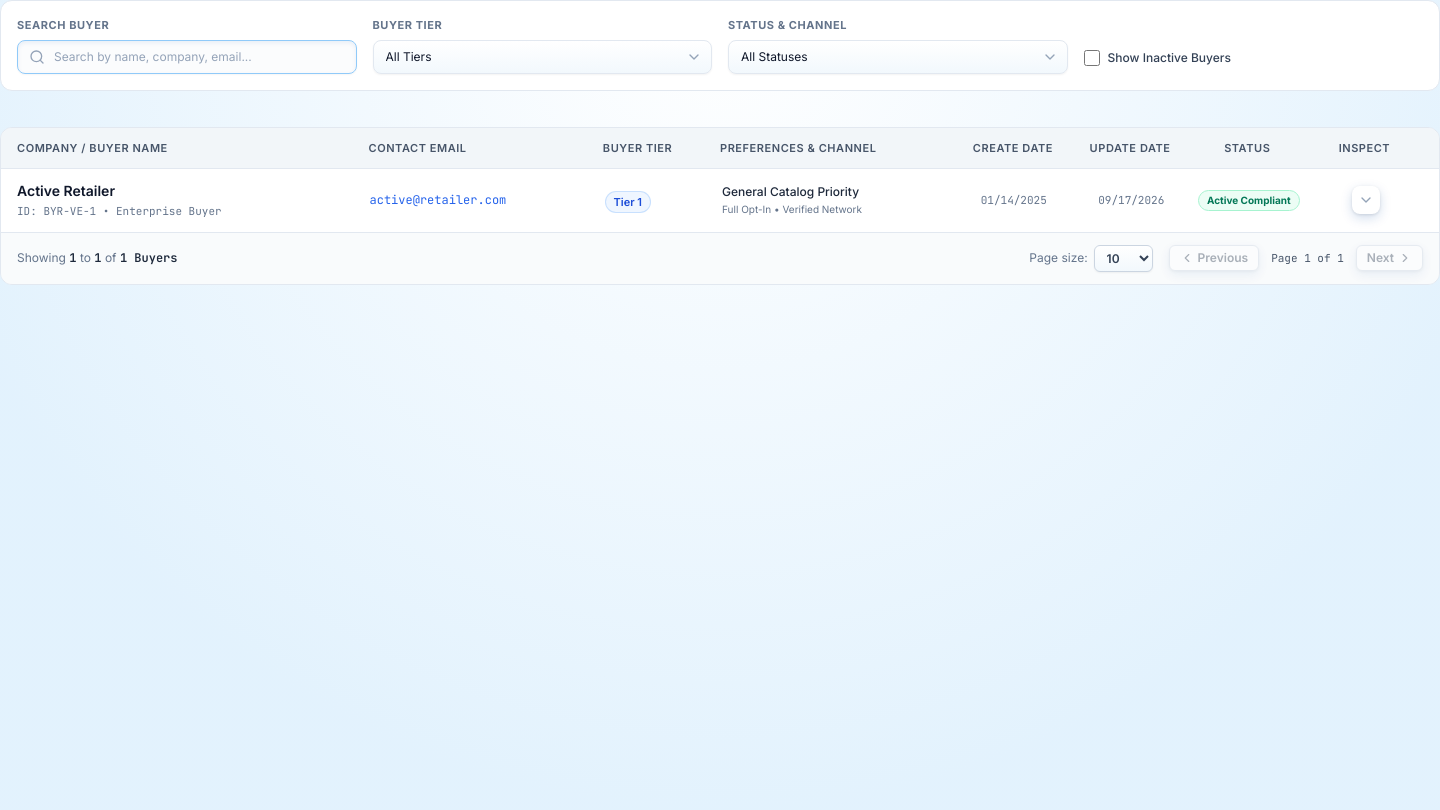
Test case: BuyerRegistryPanel — Live CSV Ingestion & Unified Buyer Registry (Issue 03) › should open BuyerDetailDrawer when clicking a buyer row in registry table and style inactive buyers with badge
Expected: the text "Inactive Retailer" is not shown
Click the checkbox labelled "Show Inactive Buyers" at (1092,58), box [1084, 50, 1100, 66]
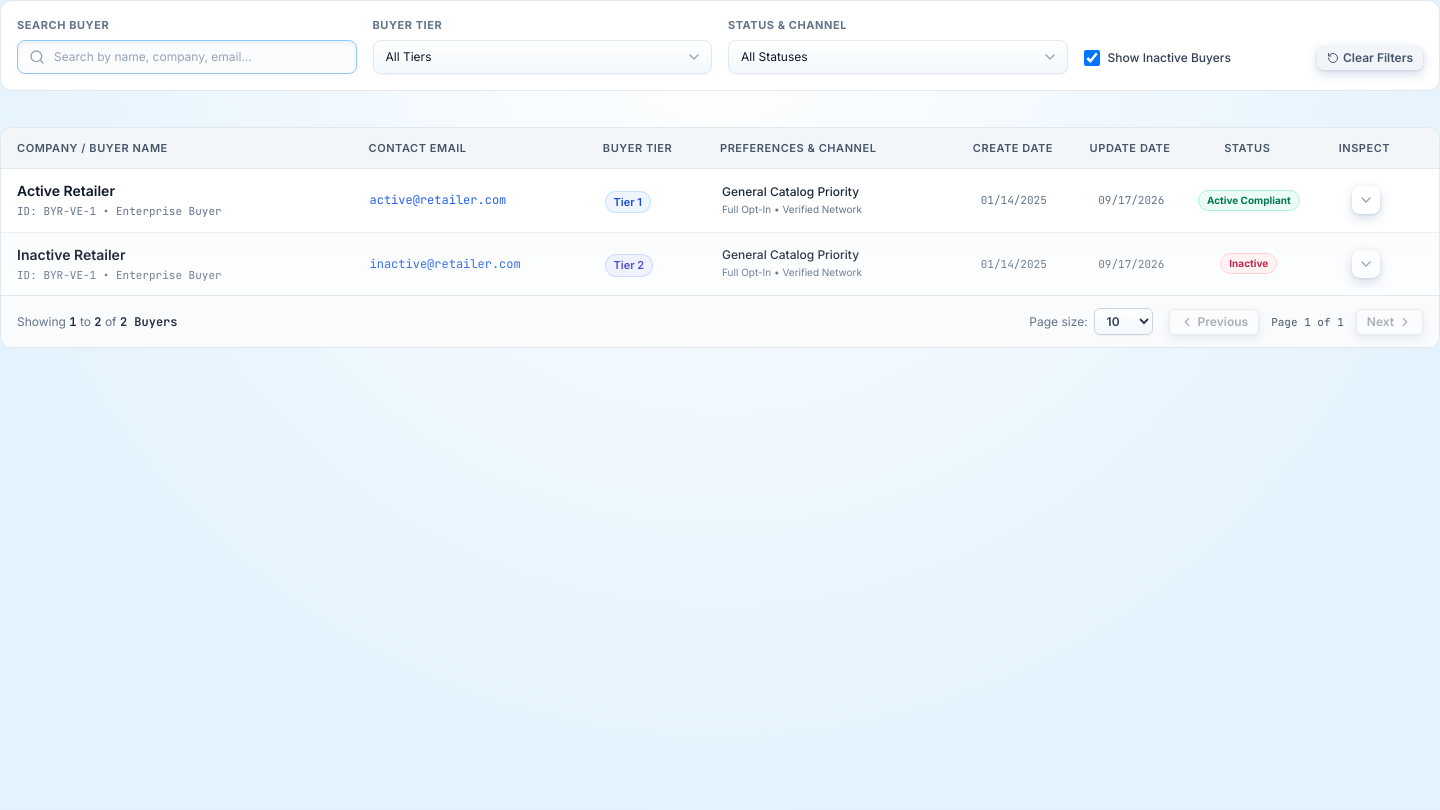
Expected: the text "Inactive Retailer" is shown, [17, 246, 126, 262]
Expected: the text "Inactive" is shown, [1220, 253, 1277, 274]
// Click active buyer row to toggle progressive drawer
Click the element with test id "buyer-row-b-active-1" at (66,190), box [17, 182, 1380, 218]
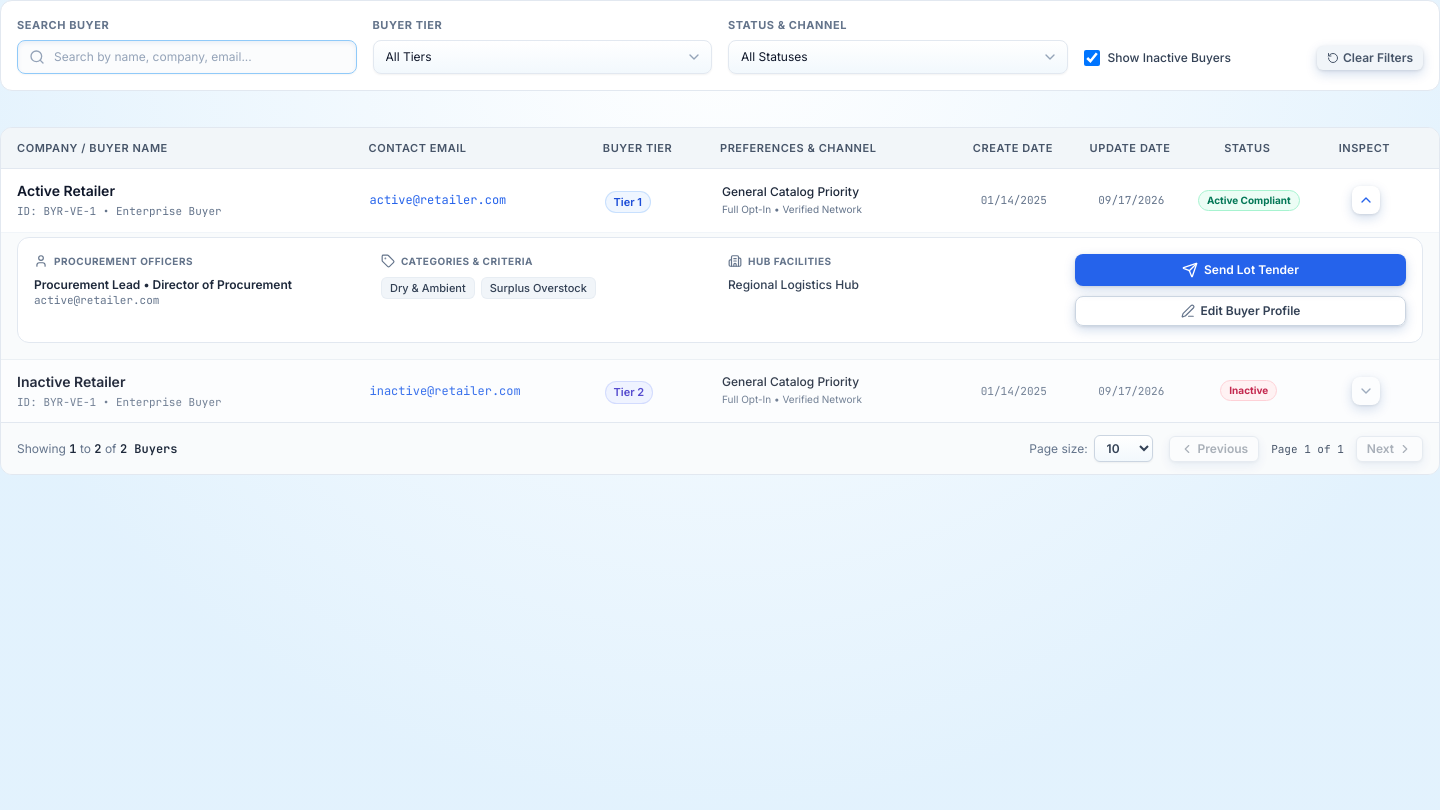
// Click Edit Buyer Profile button in progressive drawer (ADR 0043)
Click the button "Edit Buyer Profile" at (1240,310), box [1075, 296, 1406, 326]
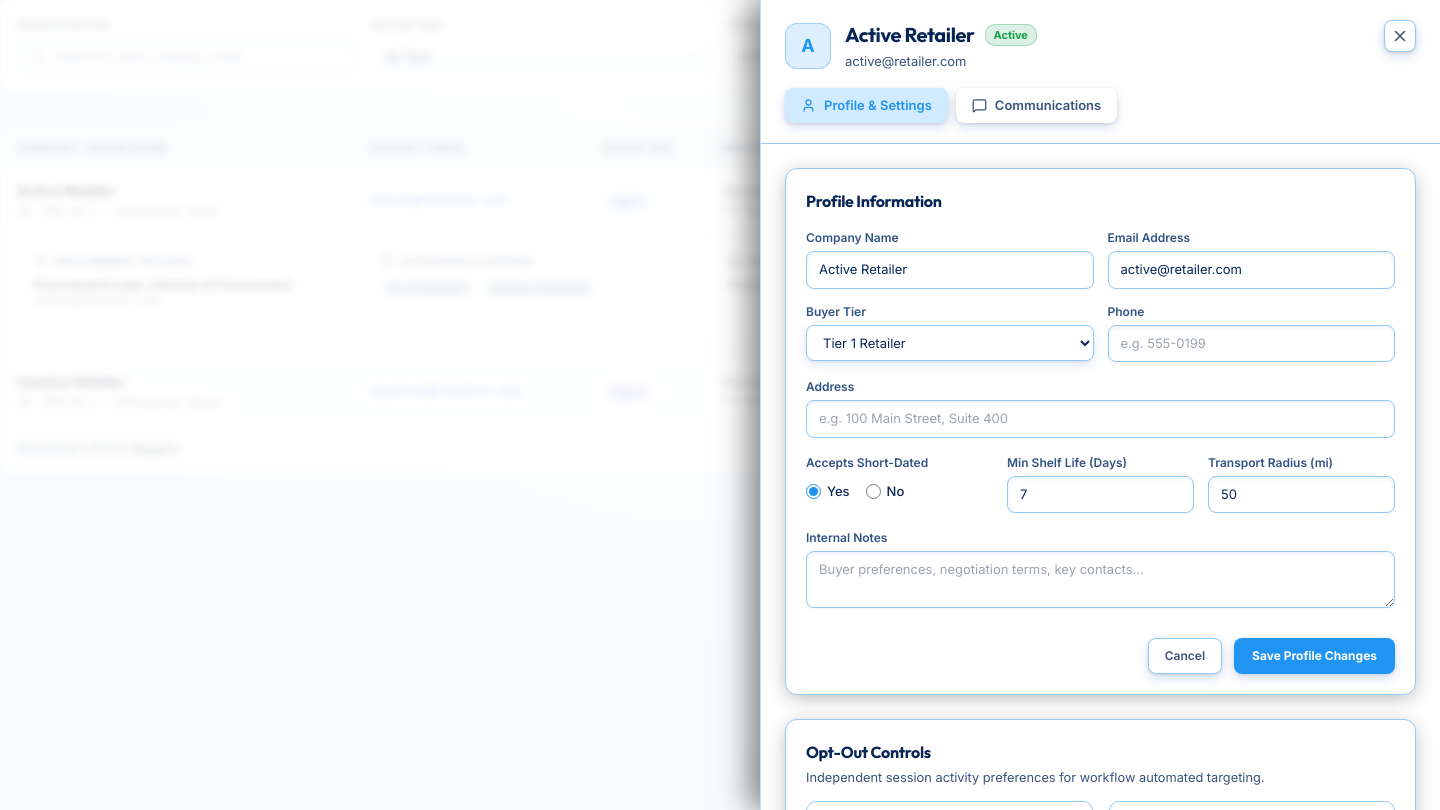
Expected: the element with test id "buyer-detail-drawer" is shown, [760, 0, 1439, 809]
